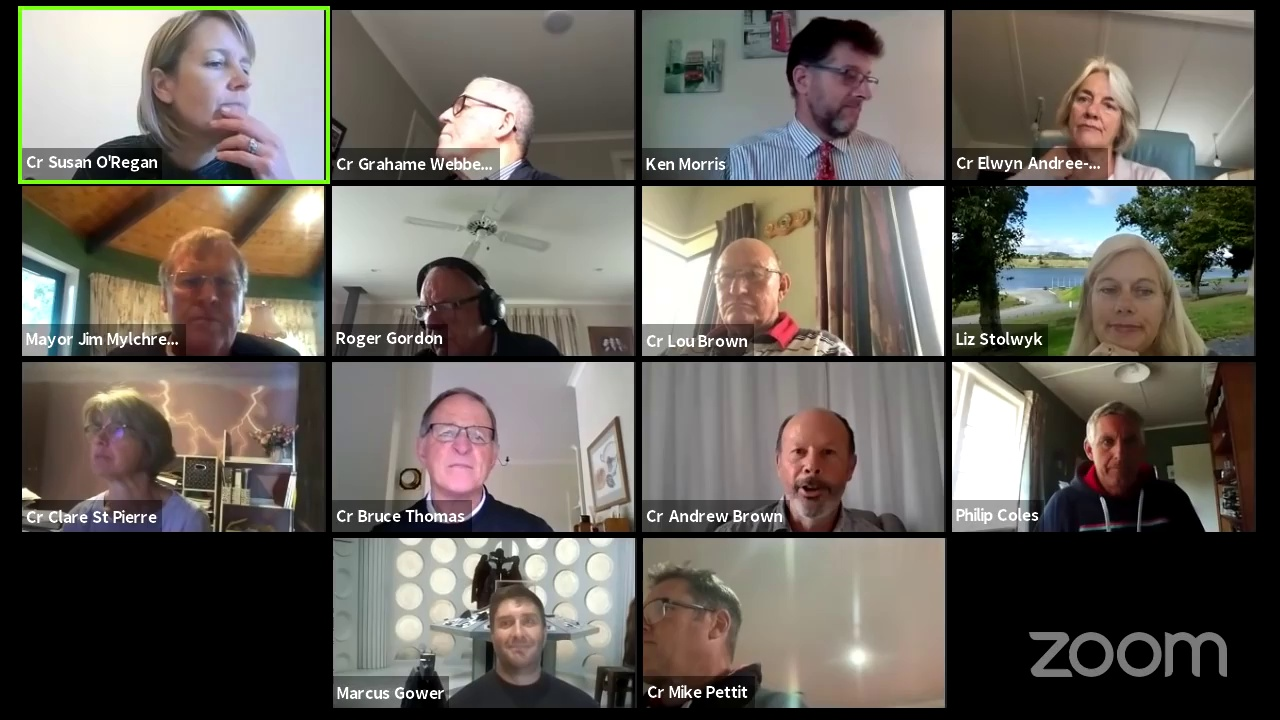Distracted: (142, 14, 261, 134), (777, 23, 880, 142), (642, 571, 736, 684), (431, 74, 525, 160), (412, 261, 493, 346), (93, 392, 161, 488)
Not Distracted: (147, 235, 257, 351), (1083, 241, 1176, 353), (1070, 398, 1156, 491), (419, 394, 498, 494), (785, 414, 857, 511), (1065, 58, 1145, 144), (706, 248, 793, 324), (488, 592, 549, 671)
